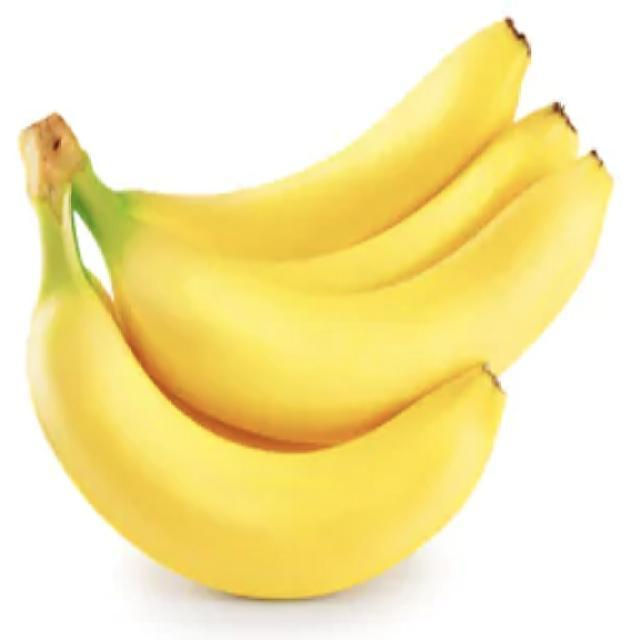Banana: (24, 64, 602, 620)
